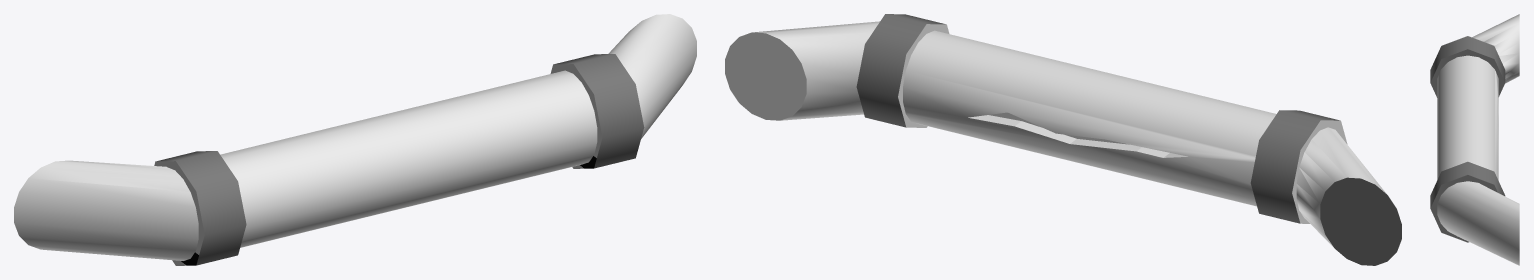
File: uncracked pipe.FBX
3 views of the same model, side by side, from view 1: azimuth 30°, elevation 25°; view 2: azimuth 150°, elevation 25°; view 3: azimuth 270°, elevation 25° (orthographic). The views are drawn at different scales.
Parts seen in each view (by area): view 1: Cylinder001; view 2: Cylinder001; view 3: Cylinder001.
Boxes of the visible parts, left/top/right/bottom form: Cylinder001: left=14, top=14, right=696, bottom=265; Cylinder001: left=725, top=14, right=1401, bottom=265; Cylinder001: left=1430, top=14, right=1519, bottom=265.
Bounding box in the file's own units: 164 × 28.59 × 24.
